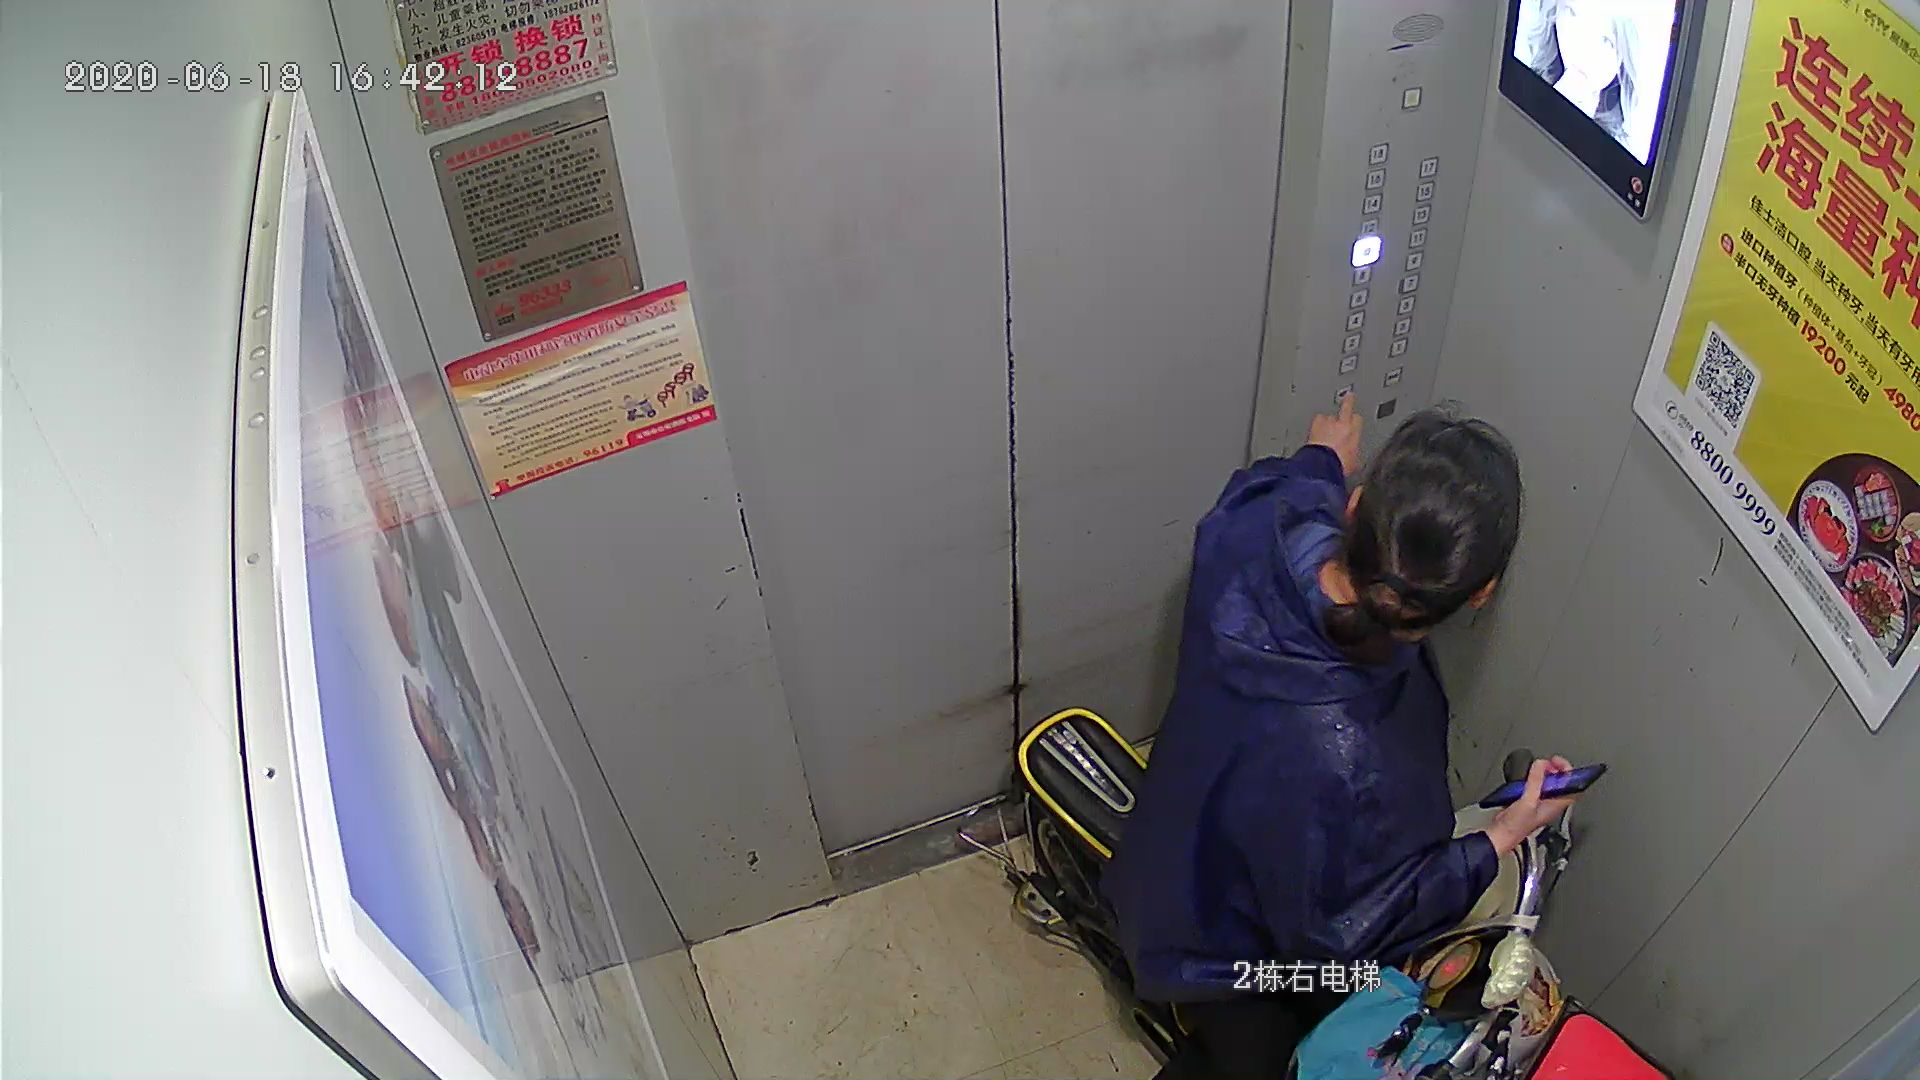Electric-bicycle: (1015, 708, 1640, 1069)
